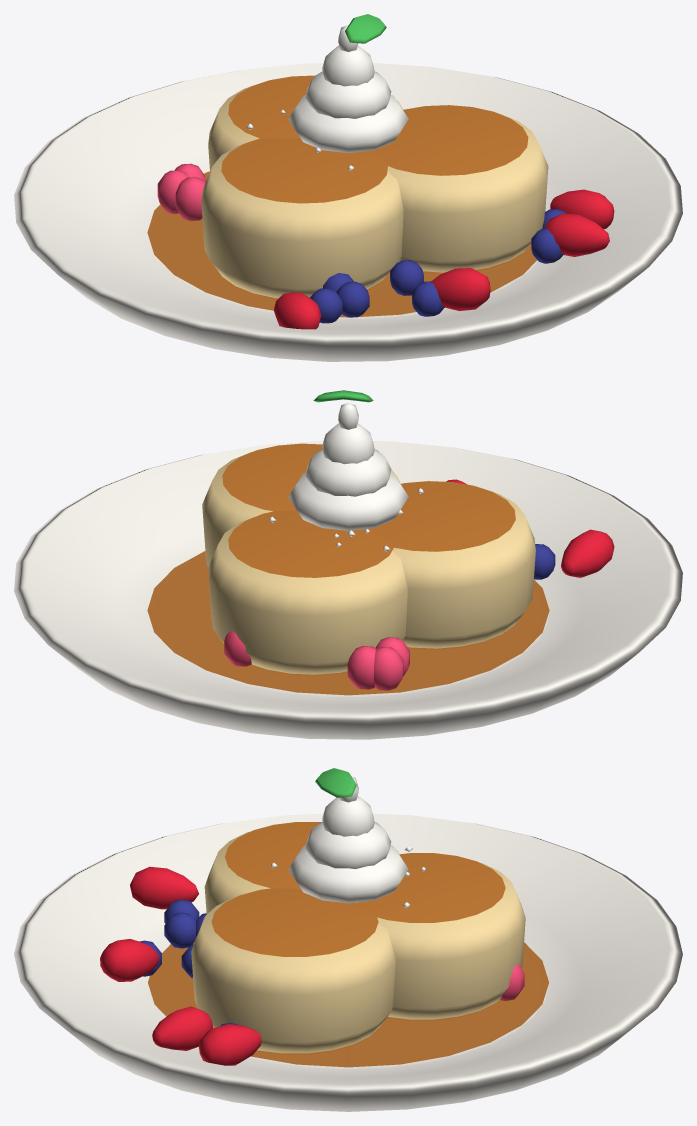
The picture shows the model from 3 angles, top to bottom: view 1: azimuth 30°, elevation 25°; view 2: azimuth 150°, elevation 25°; view 3: azimuth 270°, elevation 25°; orthographic projection.
Visible parts, largest first — view 1: plate, pancake, pancake_top, cream, syrup, strawberry, blueberry, raspberry, mint; view 2: plate, pancake, pancake_top, syrup, cream, raspberry, strawberry, blueberry; view 3: plate, pancake, pancake_top, syrup, cream, strawberry, blueberry, mint.
Boxes of the visible parts, x1,y1,x2,y2 form: plate: (14, 63, 682, 361); pancake: (201, 87, 548, 298); pancake_top: (221, 75, 528, 203); cream: (288, 25, 408, 153); syrup: (147, 171, 536, 317); strawberry: (273, 189, 614, 329); blueberry: (310, 209, 565, 323); raspberry: (157, 163, 206, 220); mint: (345, 14, 386, 43); plate: (14, 440, 682, 739); pancake: (202, 452, 535, 674); pancake_top: (222, 443, 515, 577); syrup: (147, 551, 549, 695); cream: (288, 402, 408, 530); raspberry: (224, 630, 409, 690); strawberry: (446, 479, 614, 577); blueberry: (534, 544, 555, 579); plate: (14, 813, 682, 1111); pancake: (191, 831, 525, 1053); pancake_top: (211, 822, 505, 956); syrup: (148, 942, 548, 1067); cream: (288, 776, 408, 903); strawberry: (100, 866, 261, 1065); blueberry: (139, 899, 237, 1025); mint: (315, 768, 356, 797).
Size of the model in its own units: 0.2 by 0.0795 by 0.2.
